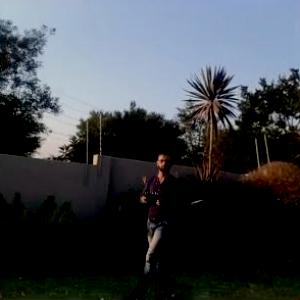follow: (122, 143, 186, 299)
